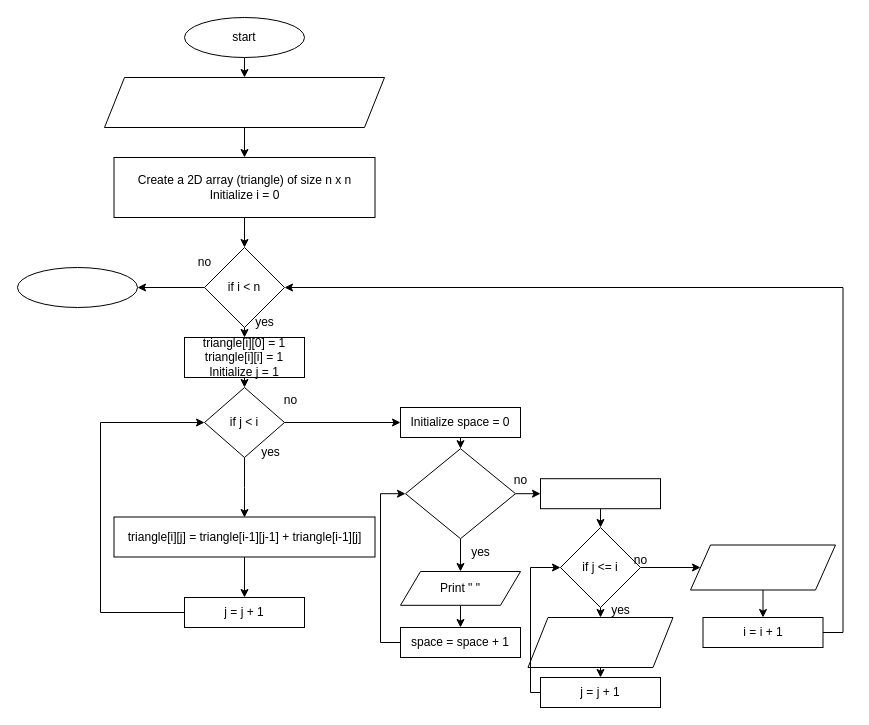
This 869x725 diagram has some shape labels left out. The centre of each missing label's shape, as x and y in pixels:
if space < (n - i -1): point (460, 493)
Initialize j = 0: point (600, 493)
Input number of rows (n: point (244, 102)
Print newline: point (763, 567)
Print triangle[i][j] + " ": point (600, 642)
stop: point (77, 287)
